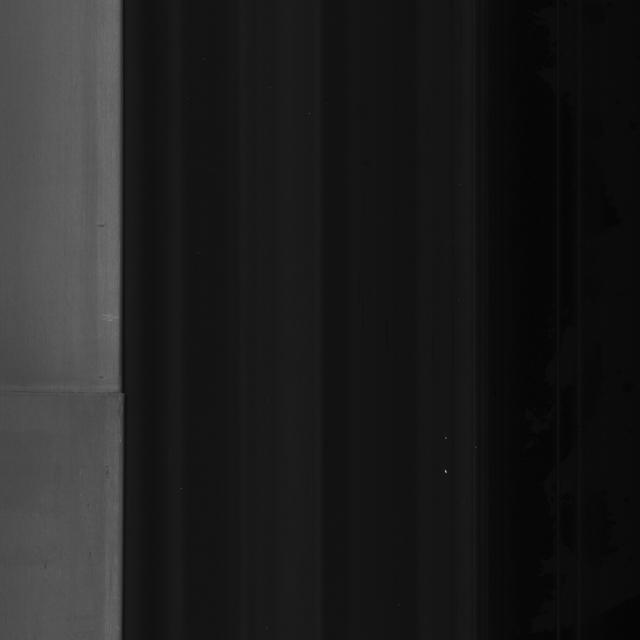crease: (10, 364, 145, 418)
